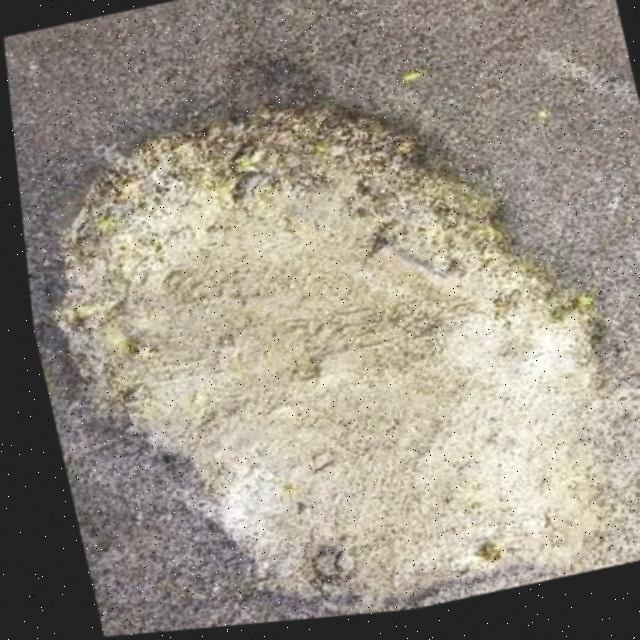pothole: (7, 48, 640, 640)
